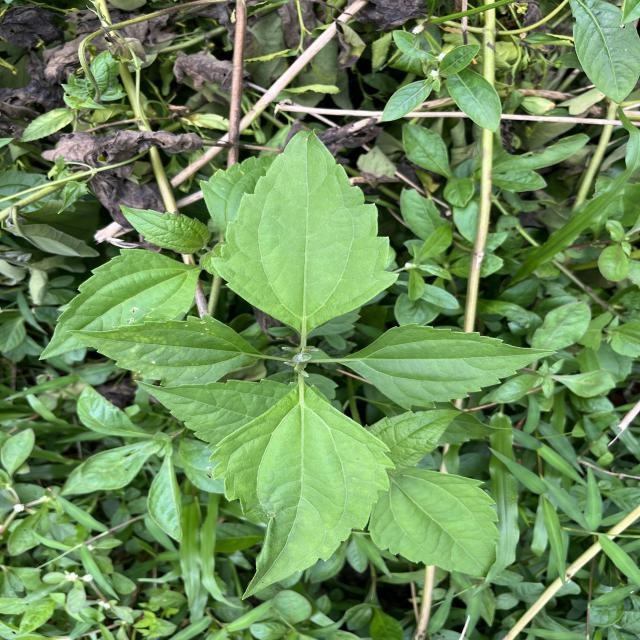Chromolaena odorata: (205, 382, 402, 604), (207, 124, 404, 330), (337, 320, 565, 416)
